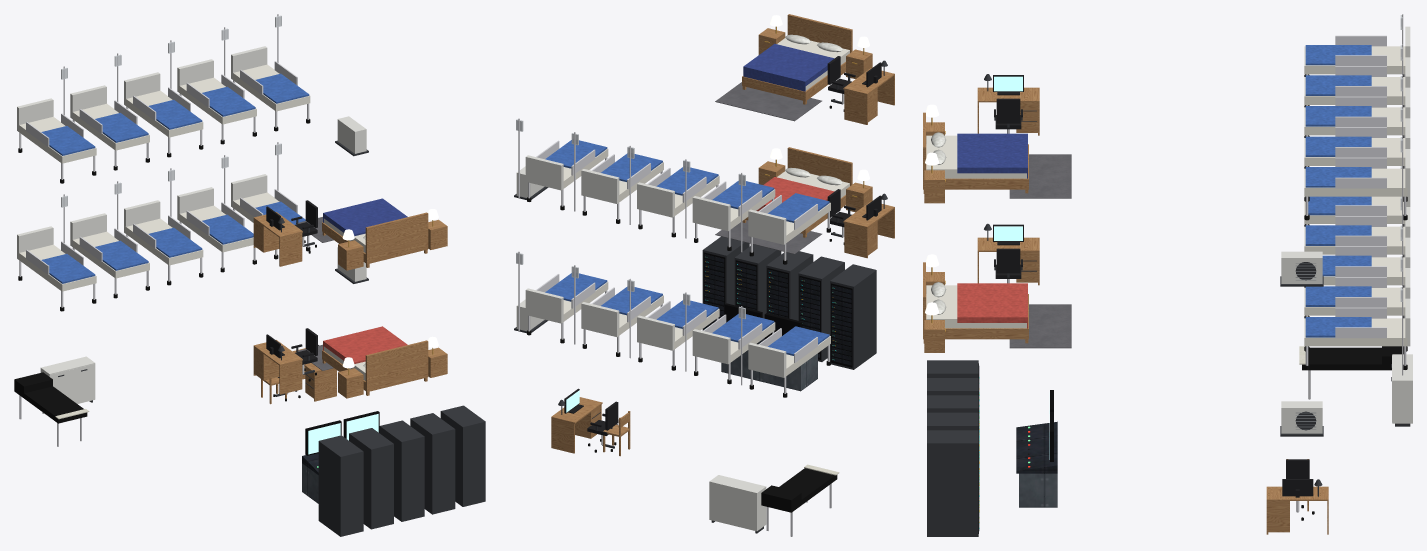
The model's file is i_cyberware_clinic.gltf.
The picture shows the model from 3 angles, left to right: view 1: azimuth 30°, elevation 25°; view 2: azimuth 150°, elevation 25°; view 3: azimuth 270°, elevation 25°; orthographic projection. The views are drawn at different scales.
Visible parts, largest first — view 1: I_cyberware_clinic; view 2: I_cyberware_clinic; view 3: I_cyberware_clinic.
Boxes of the visible parts, box(x1,y1,x2,y2) form: I_cyberware_clinic: box(14, 14, 485, 536); I_cyberware_clinic: box(514, 14, 894, 536); I_cyberware_clinic: box(923, 14, 1412, 536).
Bounding box in the file's own units: 7.91 × 8.5 × 9.48.
Materials: 27 (9 with a texture image).
